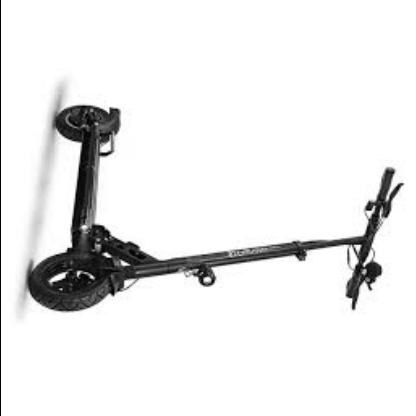bike: (27, 103, 413, 314)
